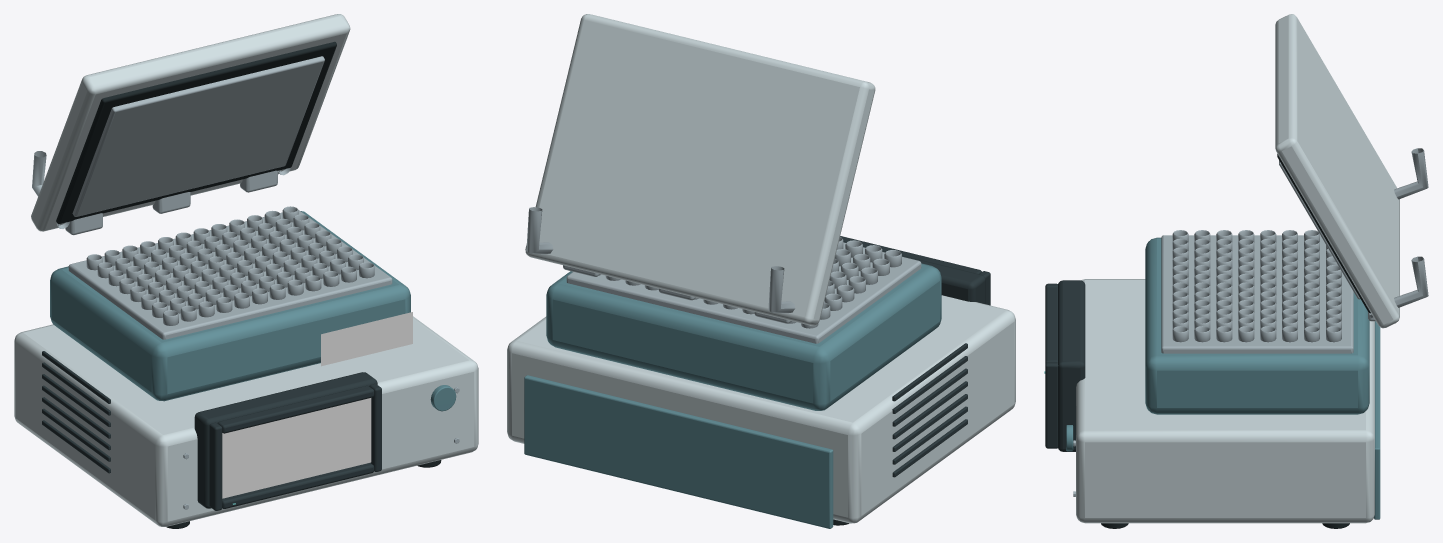
The model's file is ID_ThermalCycler.fbx.
3 views of the same model, side by side, from view 1: azimuth 30°, elevation 25°; view 2: azimuth 150°, elevation 25°; view 3: azimuth 270°, elevation 25° (orthographic). The views are drawn at different scales.
Parts seen in each view (by area): view 1: ID_ThermalCycler; view 2: ID_ThermalCycler; view 3: ID_ThermalCycler.
Boxes of the visible parts, bbox=[...] form: ID_ThermalCycler: bbox=[14, 14, 478, 528]; ID_ThermalCycler: bbox=[507, 14, 1015, 528]; ID_ThermalCycler: bbox=[1044, 14, 1428, 528].
Size of the model in its own units: 70.5 by 79.62 by 71.94.
